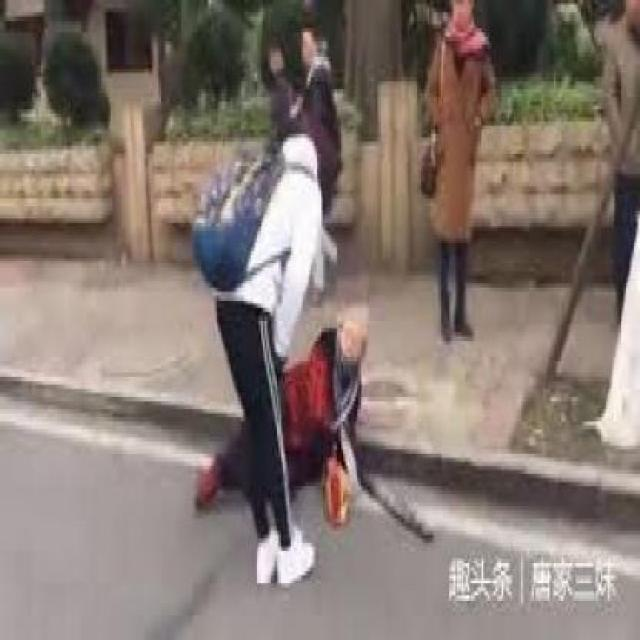fall: (178, 292, 385, 534)
